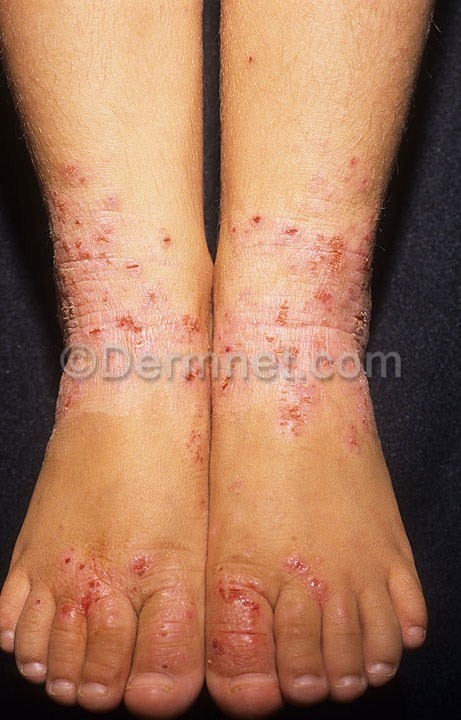Eczema: (39, 154, 212, 458), (236, 139, 377, 495), (20, 536, 209, 664), (219, 527, 351, 687), (242, 47, 258, 77)
